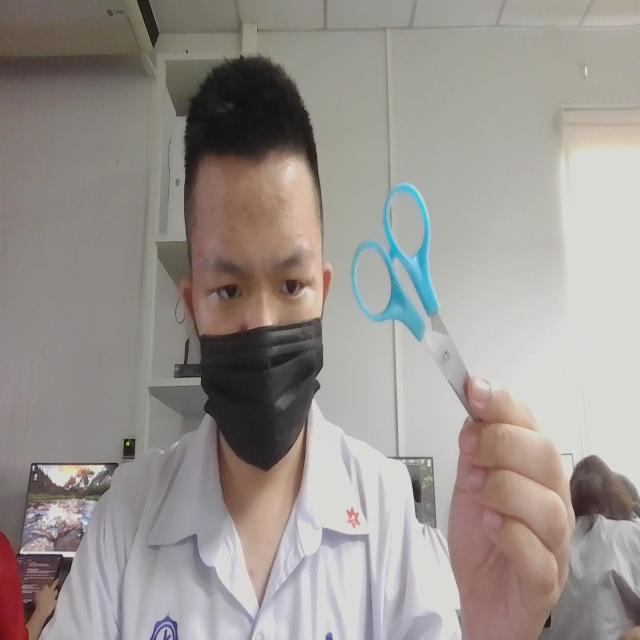scissors: (347, 168, 473, 430)
